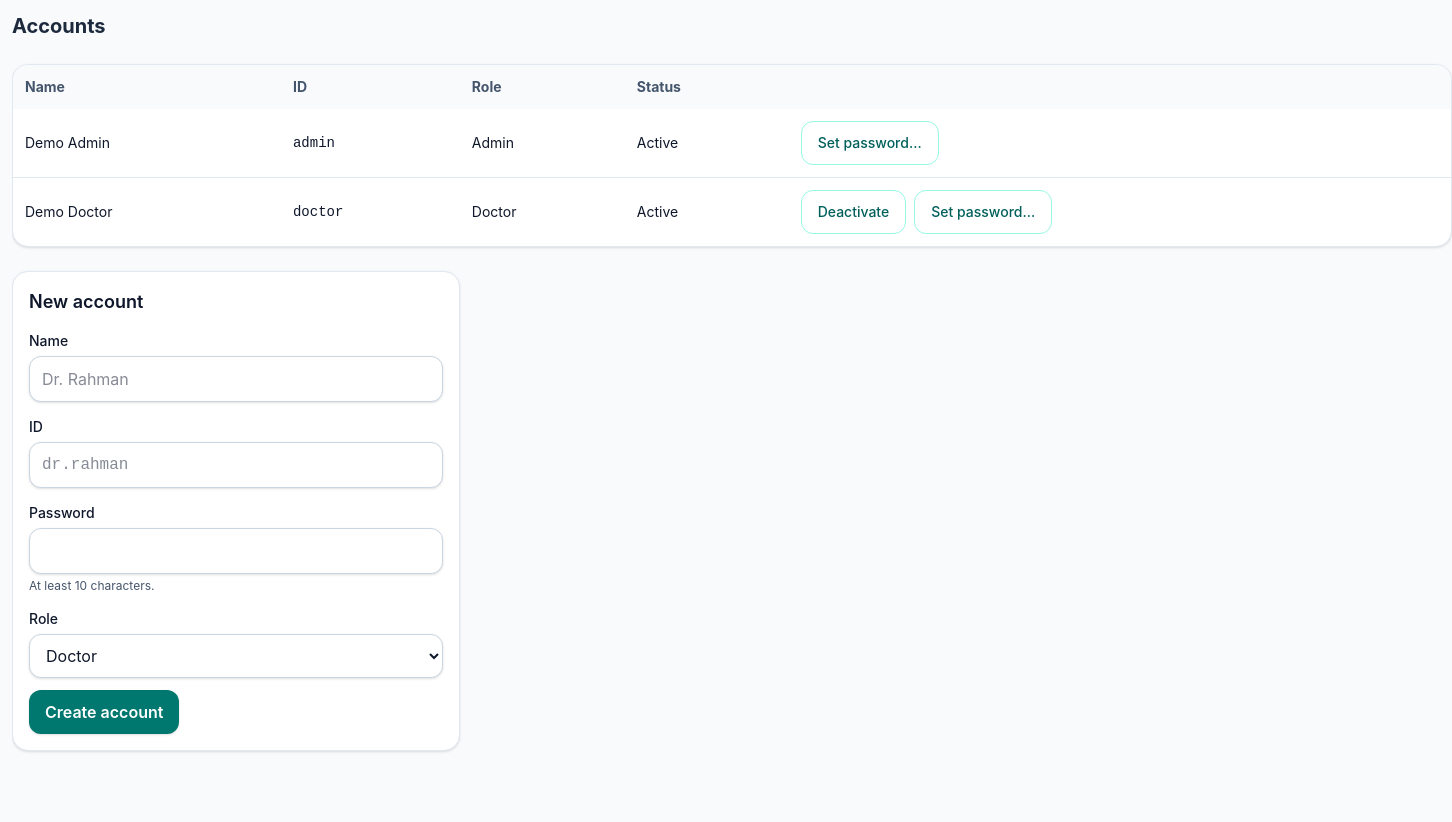
AccountsPage › shows the server's reason when the ID is taken
The width and height of the screenshot is (1452, 822).
Expected: the text "doctor" is shown, [281,178,460,246]
In the field labelled "Name": (236, 379) [29,356,443,402], type "Someone"
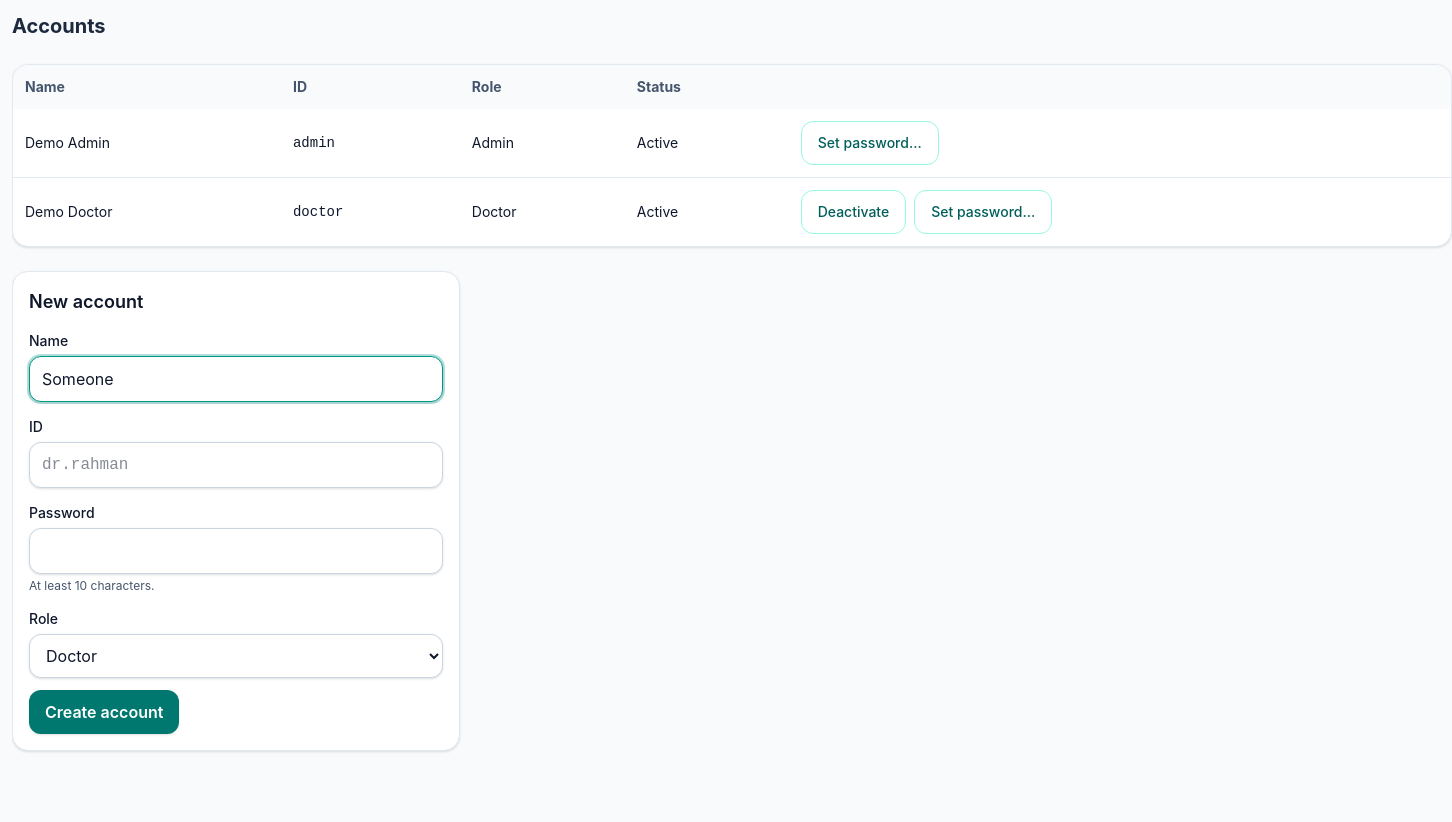
In the field labelled "ID": (236, 465) [29,442,443,488], type "doctor"
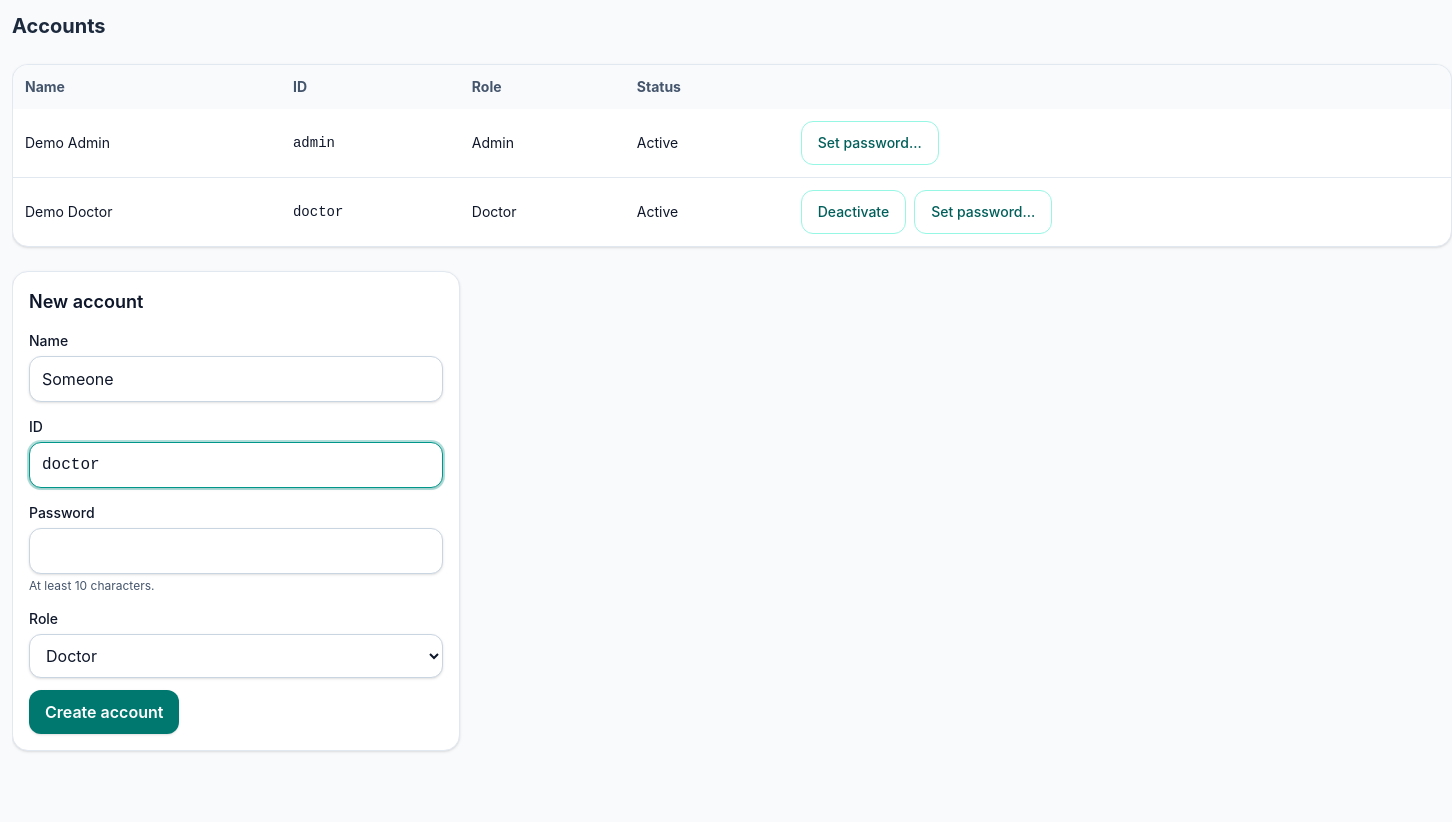
In the password field labelled "Password": (236, 551) [29,528,443,574], type "long-enough-1"
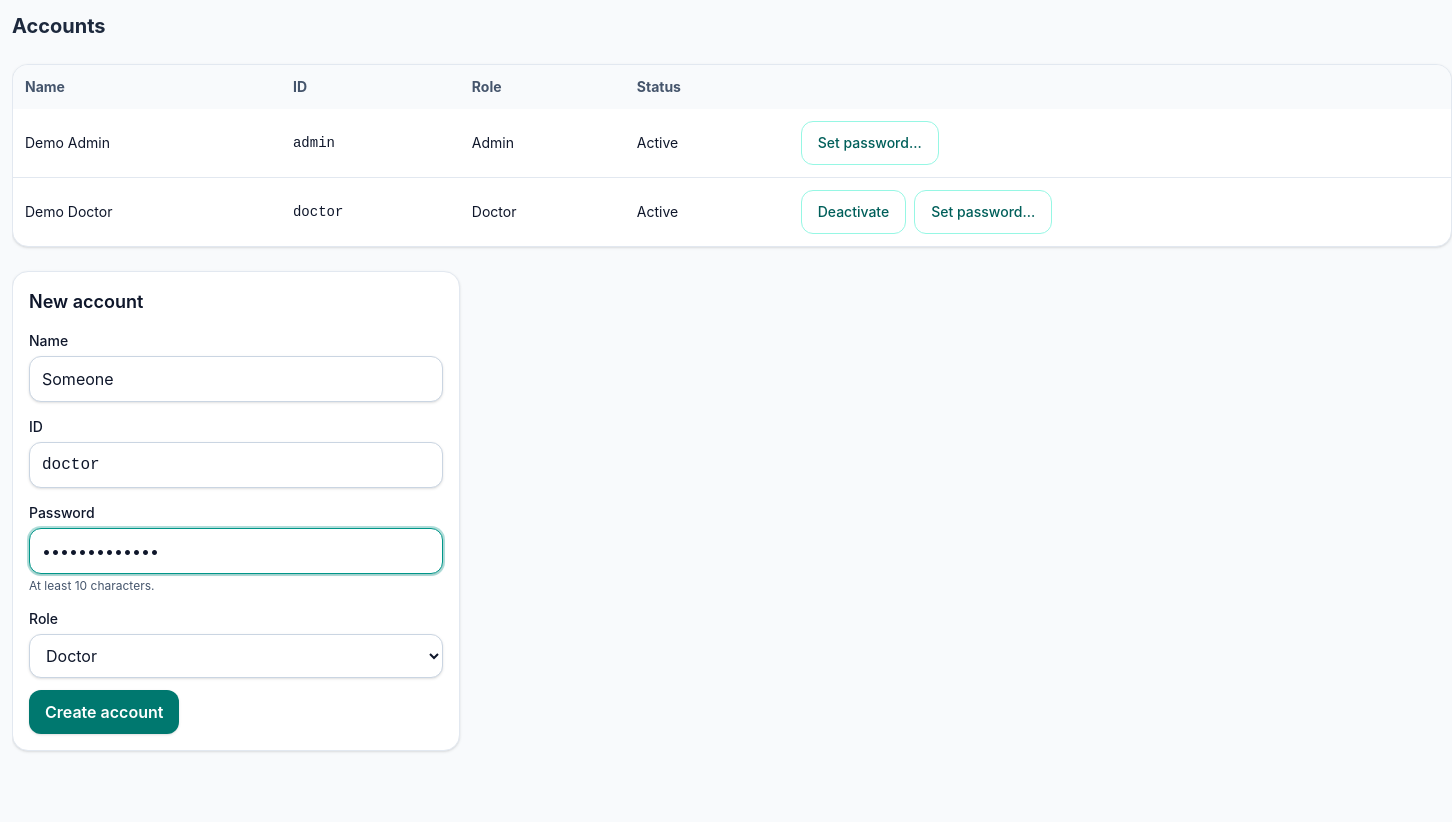
Click the button "Create account": (104, 712) [29,690,179,734]
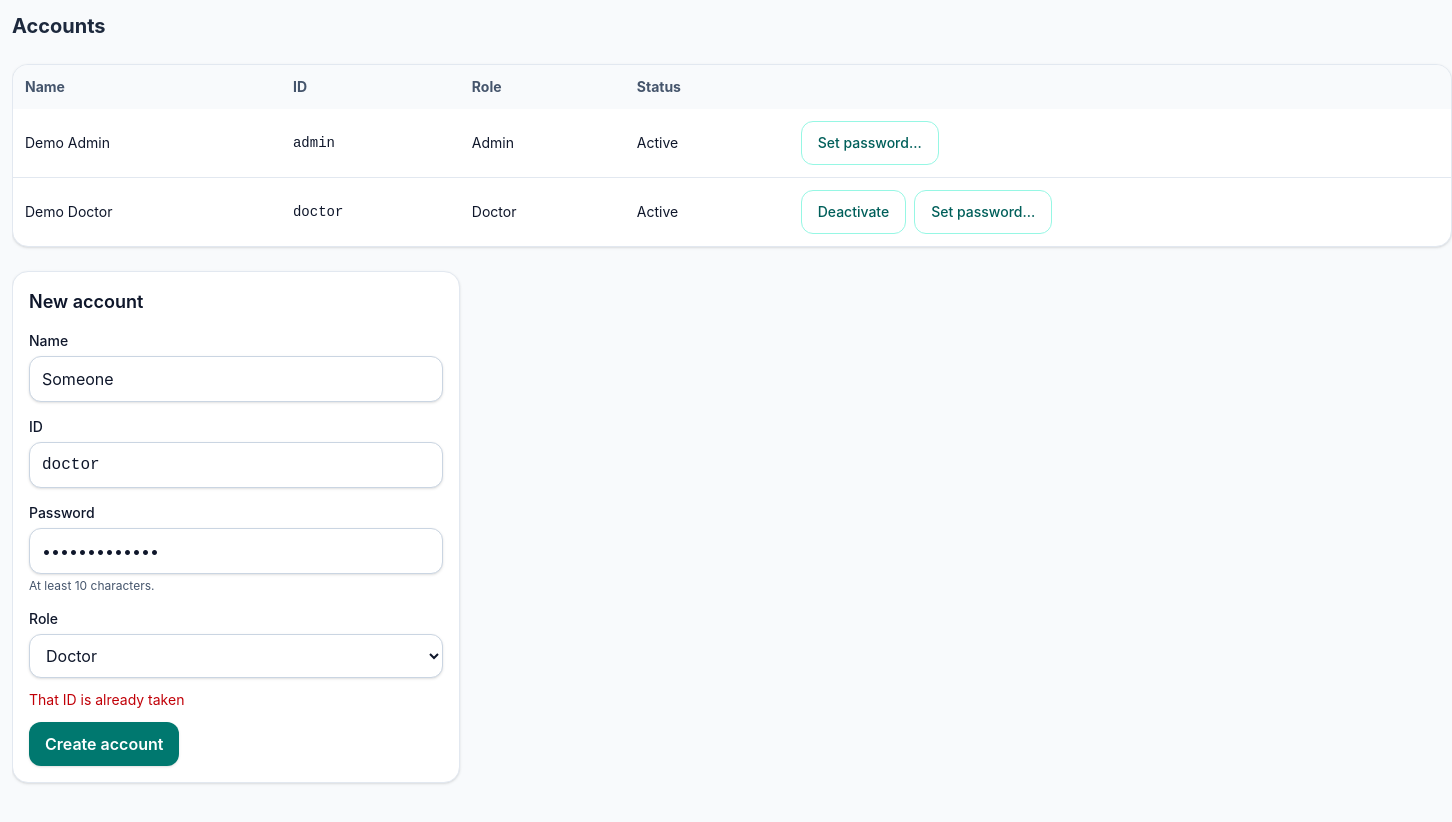
Now the text "That ID is already taken" is shown, box [29,691,184,708]
